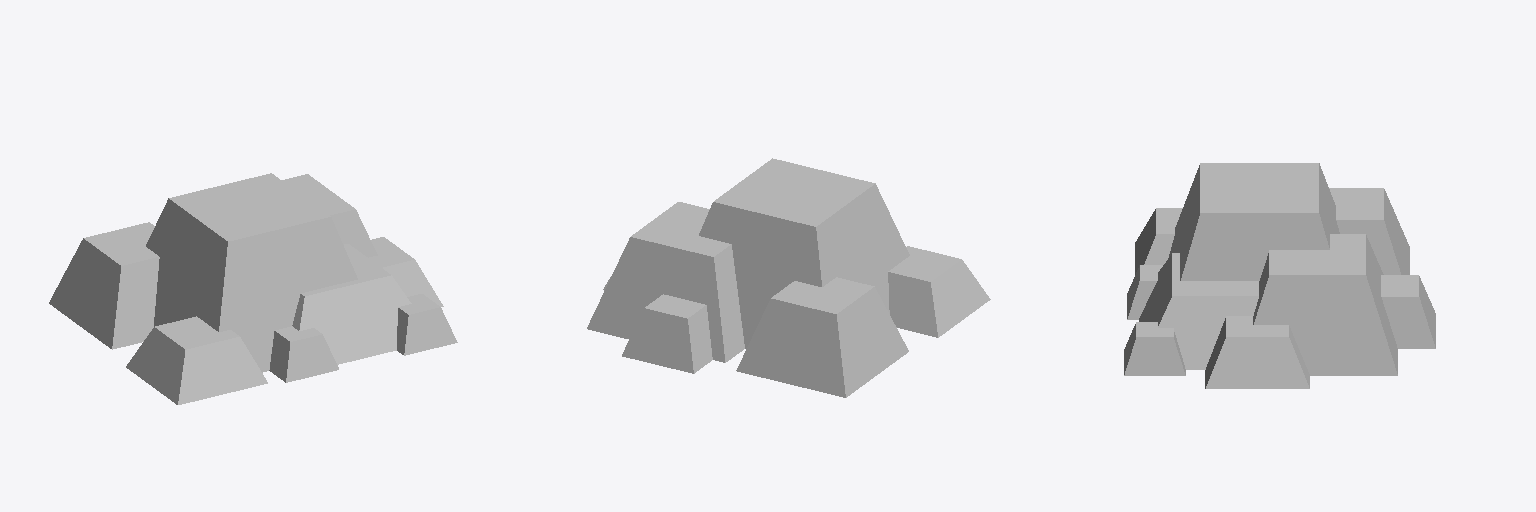
Rendered from rocks.obj.
3 renders of one model, left to right at view 1: azimuth 30°, elevation 25°; view 2: azimuth 150°, elevation 25°; view 3: azimuth 270°, elevation 25°, orthographic.
Visible parts, largest first — view 1: rocks; view 2: rocks; view 3: rocks.
Part boxes in pixels (x1,y1,x2,y2): rocks: (49,173,457,404); rocks: (587,158,990,397); rocks: (1124,163,1435,388).
Bounding box in the file's own units: 8.93 × 3.4 × 8.03.